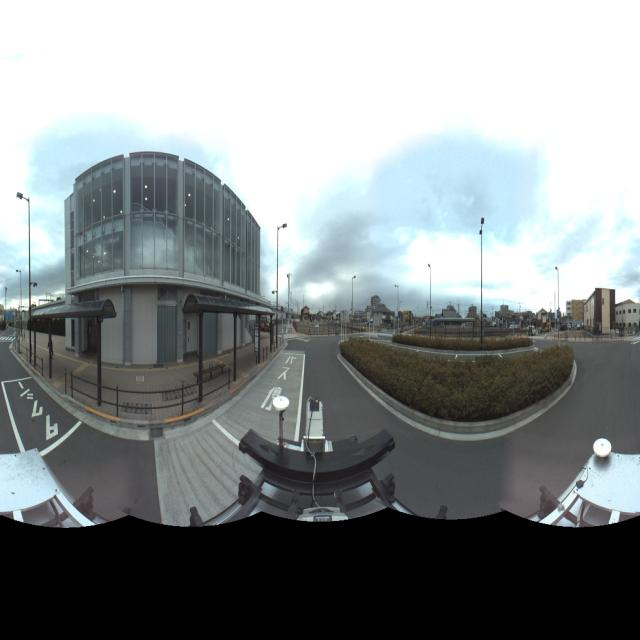b_1: (63, 145, 269, 361), (584, 291, 616, 343), (364, 289, 392, 338), (611, 296, 640, 342), (562, 293, 588, 334)
